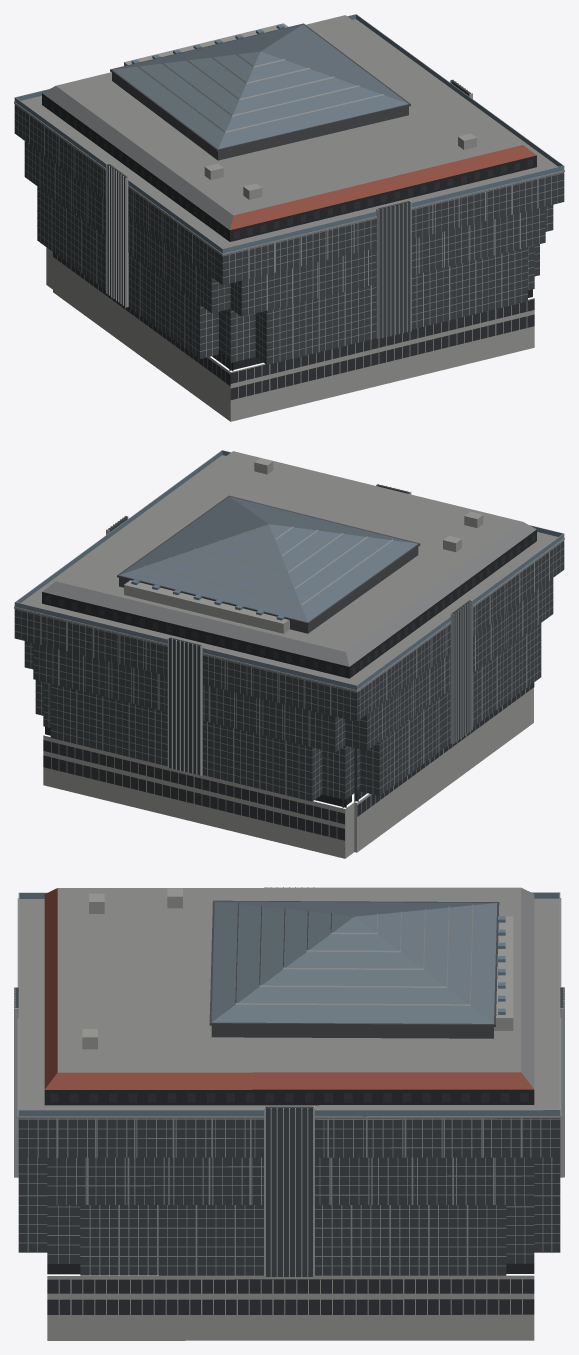
The model's file is hilton.glb.
3 renders of one model, top to bottom at view 1: azimuth 30°, elevation 25°; view 2: azimuth 150°, elevation 25°; view 3: azimuth 270°, elevation 25°, orthographic. The views are drawn at different scales.
Parts seen in each view (by area): view 1: L0, L1; view 2: L0, L1; view 3: L0, L1.
Boxes of the visible parts, box(x1,y1,x2,y2) form: L0: box(14, 14, 564, 421); L1: box(29, 79, 538, 358); L0: box(14, 450, 564, 858); L1: box(40, 484, 549, 795); L0: box(14, 887, 564, 1340); L1: box(15, 887, 563, 1277).
Size of the model in its own units: 80.4 by 54.95 by 84.49.
